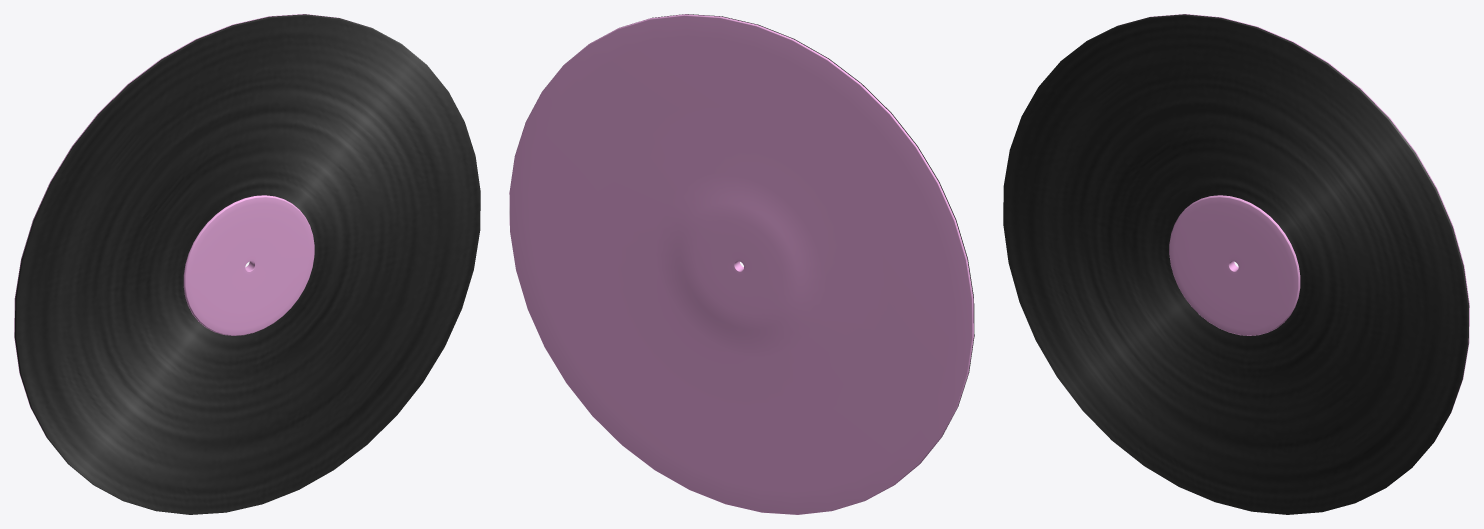
File: Vinyl_S2.fbx
3 views of the same model, side by side, from view 1: azimuth 30°, elevation 25°; view 2: azimuth 150°, elevation 25°; view 3: azimuth 330°, elevation 25° (orthographic).
Visible parts, largest first — view 1: Vinyl_S_2; view 2: Vinyl_S_2; view 3: Vinyl_S_2.
Boxes of the visible parts, bbox=[...] form: Vinyl_S_2: bbox=[14, 14, 480, 514]; Vinyl_S_2: bbox=[509, 14, 974, 514]; Vinyl_S_2: bbox=[1003, 14, 1469, 514].
Bounding box in the file's own units: 2.53 × 0.0551 × 2.53.
2 materials, 1 textured.
